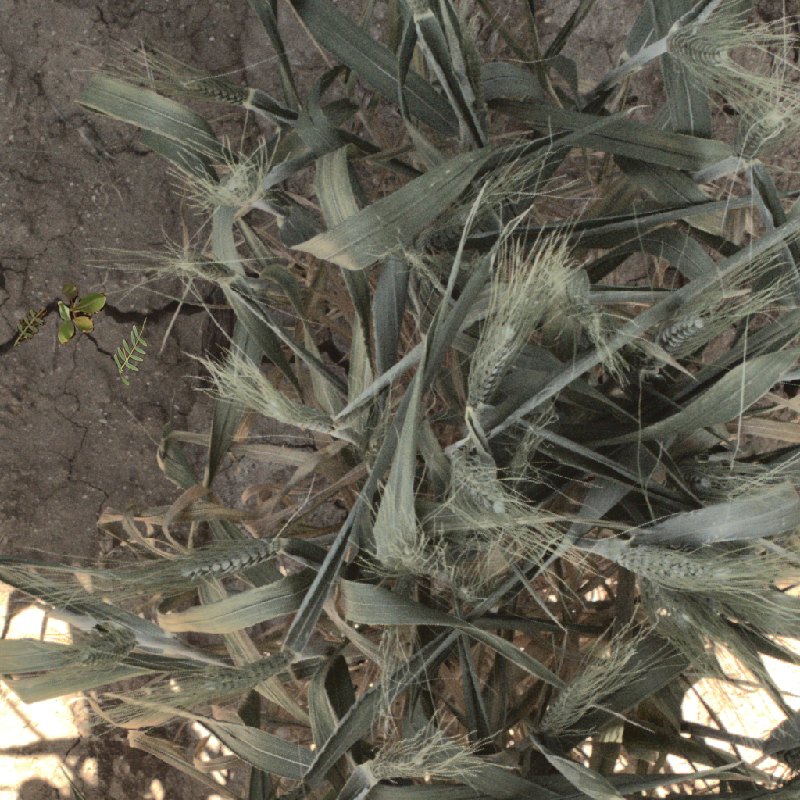spikelet: (537, 639, 640, 738), (590, 533, 738, 593), (217, 368, 332, 438), (177, 646, 299, 704), (444, 446, 518, 527), (177, 531, 289, 583), (423, 182, 505, 249), (464, 318, 519, 407), (660, 21, 732, 70), (52, 631, 139, 667), (208, 159, 260, 212), (366, 752, 476, 777), (171, 251, 246, 287), (655, 309, 708, 354)
weed: (57, 282, 106, 344), (114, 317, 148, 386), (14, 308, 47, 346)
